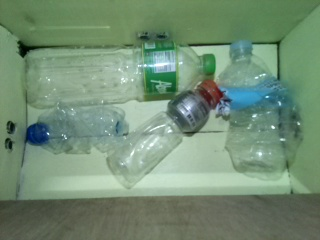bottle: (24, 39, 216, 109), (105, 79, 223, 189)
damaged-bottle: (214, 39, 304, 180), (26, 105, 129, 154)
